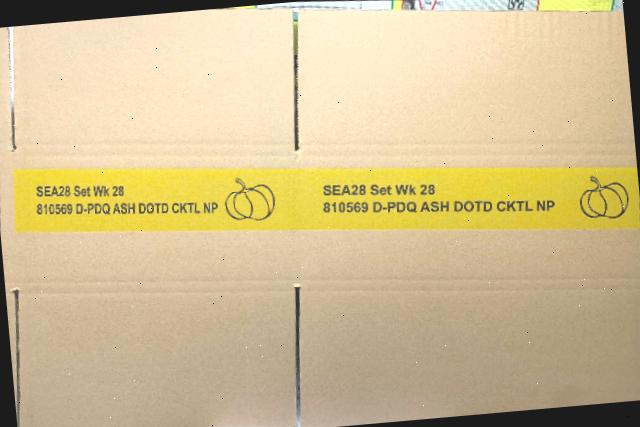box: (0, 7, 640, 427)
